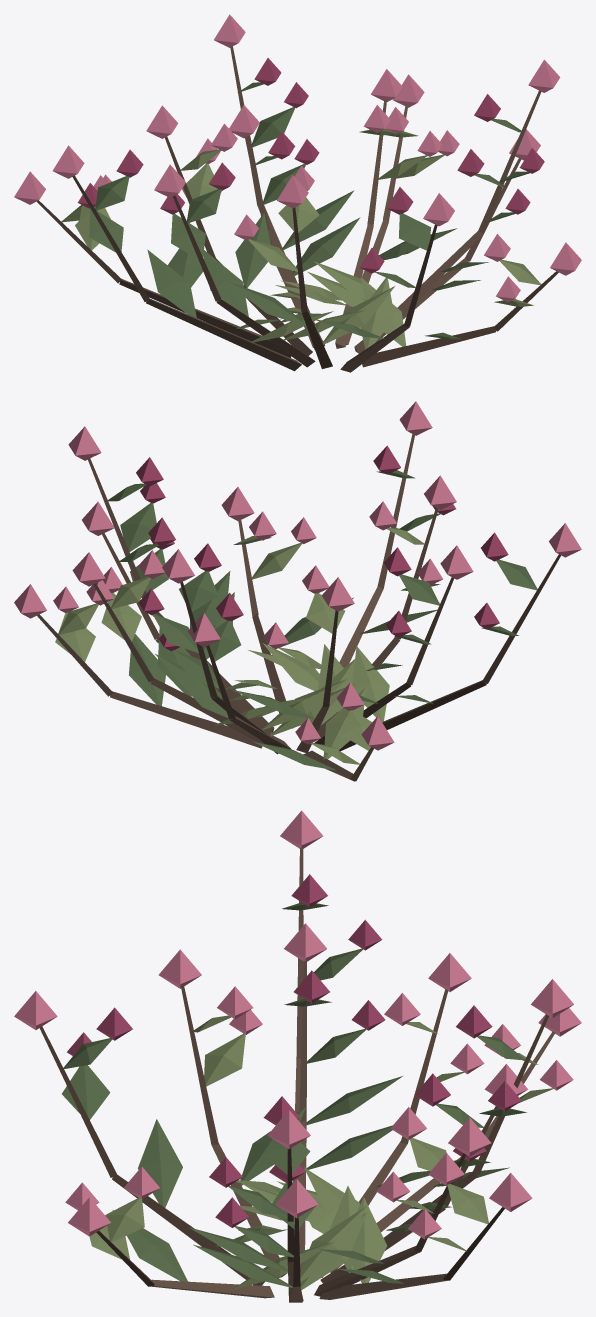
File: w9b-lookout-heather-far.glb
3 views of the same model, one above another, from view 1: azimuth 30°, elevation 25°; view 2: azimuth 150°, elevation 25°; view 3: azimuth 270°, elevation 25° (orthographic). The views are drawn at different scales.
Visible parts, largest first — view 1: Rock lookout heather.001; view 2: Rock lookout heather.001; view 3: Rock lookout heather.001.
Boxes of the visible parts, left/top/right/bottom form: Rock lookout heather.001: left=14, top=14, right=581, bottom=372; Rock lookout heather.001: left=14, top=401, right=581, bottom=781; Rock lookout heather.001: left=14, top=810, right=581, bottom=1302.
Bounding box in the file's own units: 0.7798 × 0.415 × 0.6489.
